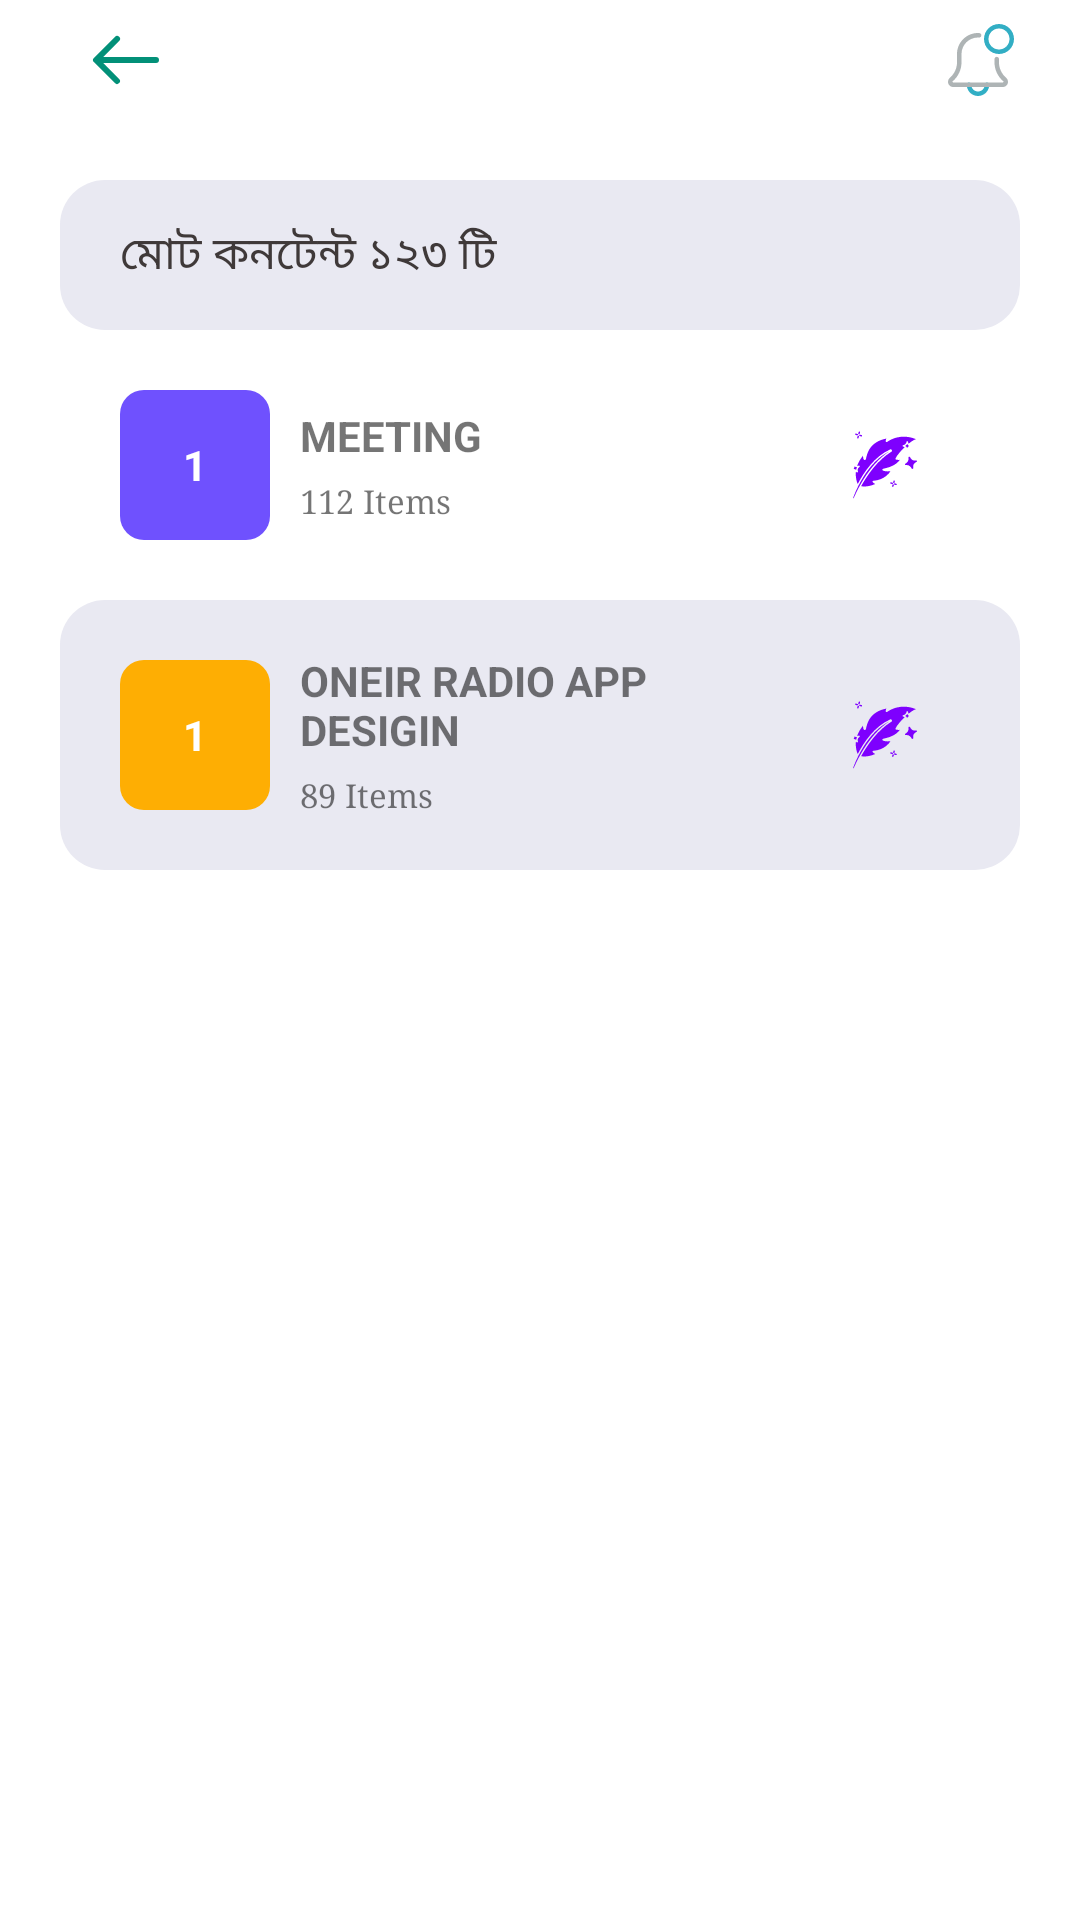

Point at icon controls on the screen. Image size 1080 × 1920, points as point (x, y).
arrow back: point (126, 59)
notification: point (981, 60)
